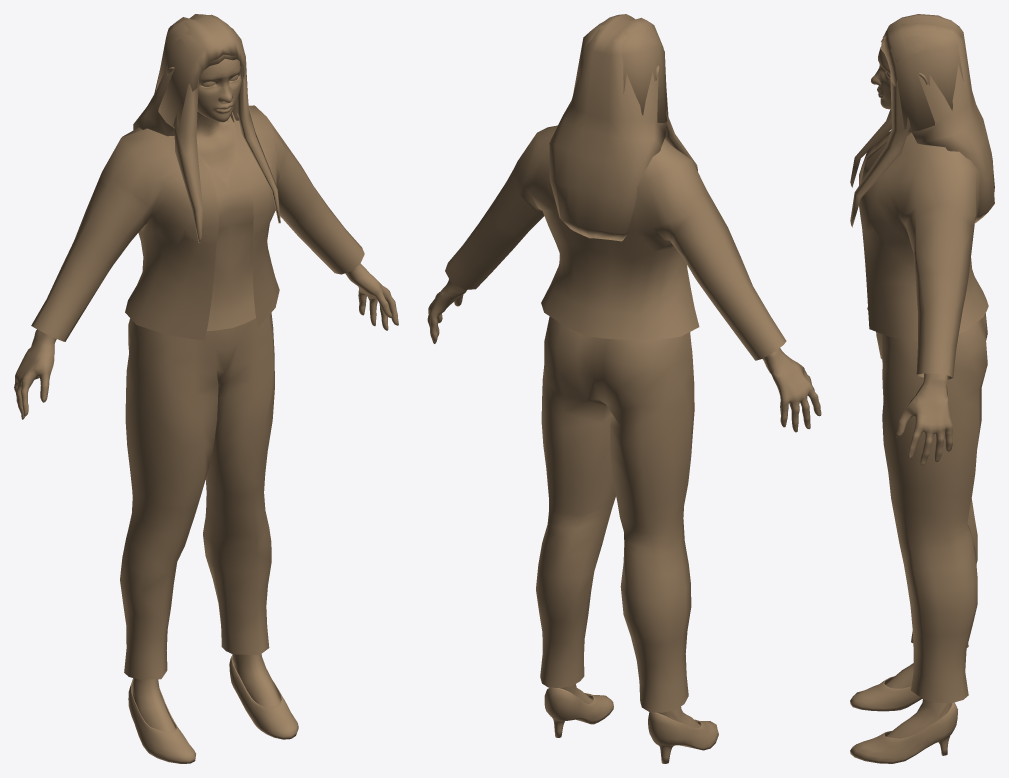
File: (NO RIG) Model_Woman_1.fbx
The picture shows the model from 3 angles, left to right: view 1: azimuth 30°, elevation 25°; view 2: azimuth 150°, elevation 25°; view 3: azimuth 270°, elevation 25°; orthographic projection. The views are drawn at different scales.
Visible parts, largest first — view 1: Calça, Jaqueta, Pele, Cabelo.002, Blusa, Sapato, Cabelo; view 2: Calça, Jaqueta, Cabelo.002, Pele, Sapato, Cabelo; view 3: Calça, Jaqueta, Cabelo.002, Pele, Cabelo, Sapato, Blusa.
Part boxes in pixels (box(x1,y1,x2,y2)): Calça: box(120, 313, 274, 679); Jaqueta: box(31, 105, 364, 341); Pele: box(14, 58, 398, 732); Cabelo.002: box(133, 14, 280, 242); Blusa: box(201, 116, 255, 331); Sapato: box(128, 655, 298, 763); Cabelo: box(155, 14, 247, 128); Calça: box(536, 316, 694, 712); Jaqueta: box(445, 125, 786, 360); Cabelo.002: box(549, 14, 697, 241); Pele: box(427, 65, 821, 727); Sapato: box(544, 687, 718, 763); Cabelo: box(573, 18, 667, 122); Calça: box(876, 313, 987, 703); Jaqueta: box(859, 131, 988, 379); Cabelo.002: box(850, 14, 994, 227); Pele: box(871, 47, 952, 738); Cabelo: box(880, 15, 963, 132); Sapato: box(850, 676, 957, 763); Blusa: box(861, 141, 887, 310).
Size of the model in its own units: 92.42 by 166 by 30.7.
